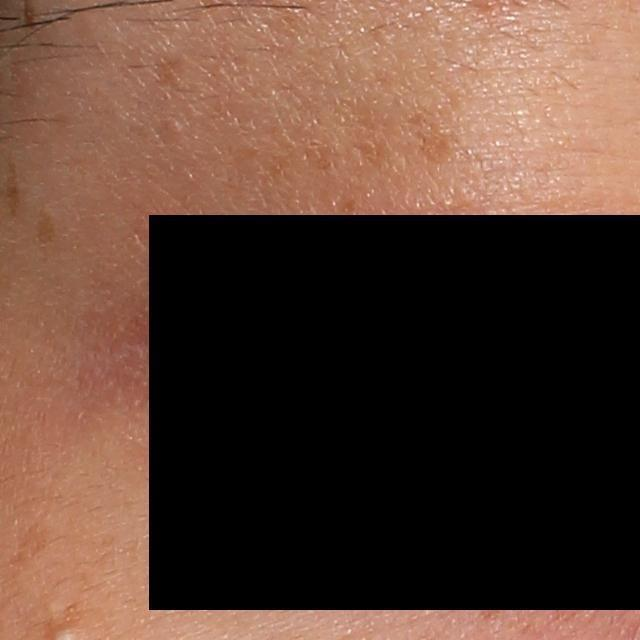melasma: (406, 105, 457, 165), (148, 48, 193, 98), (5, 518, 52, 565), (3, 157, 24, 220), (30, 207, 59, 252)
